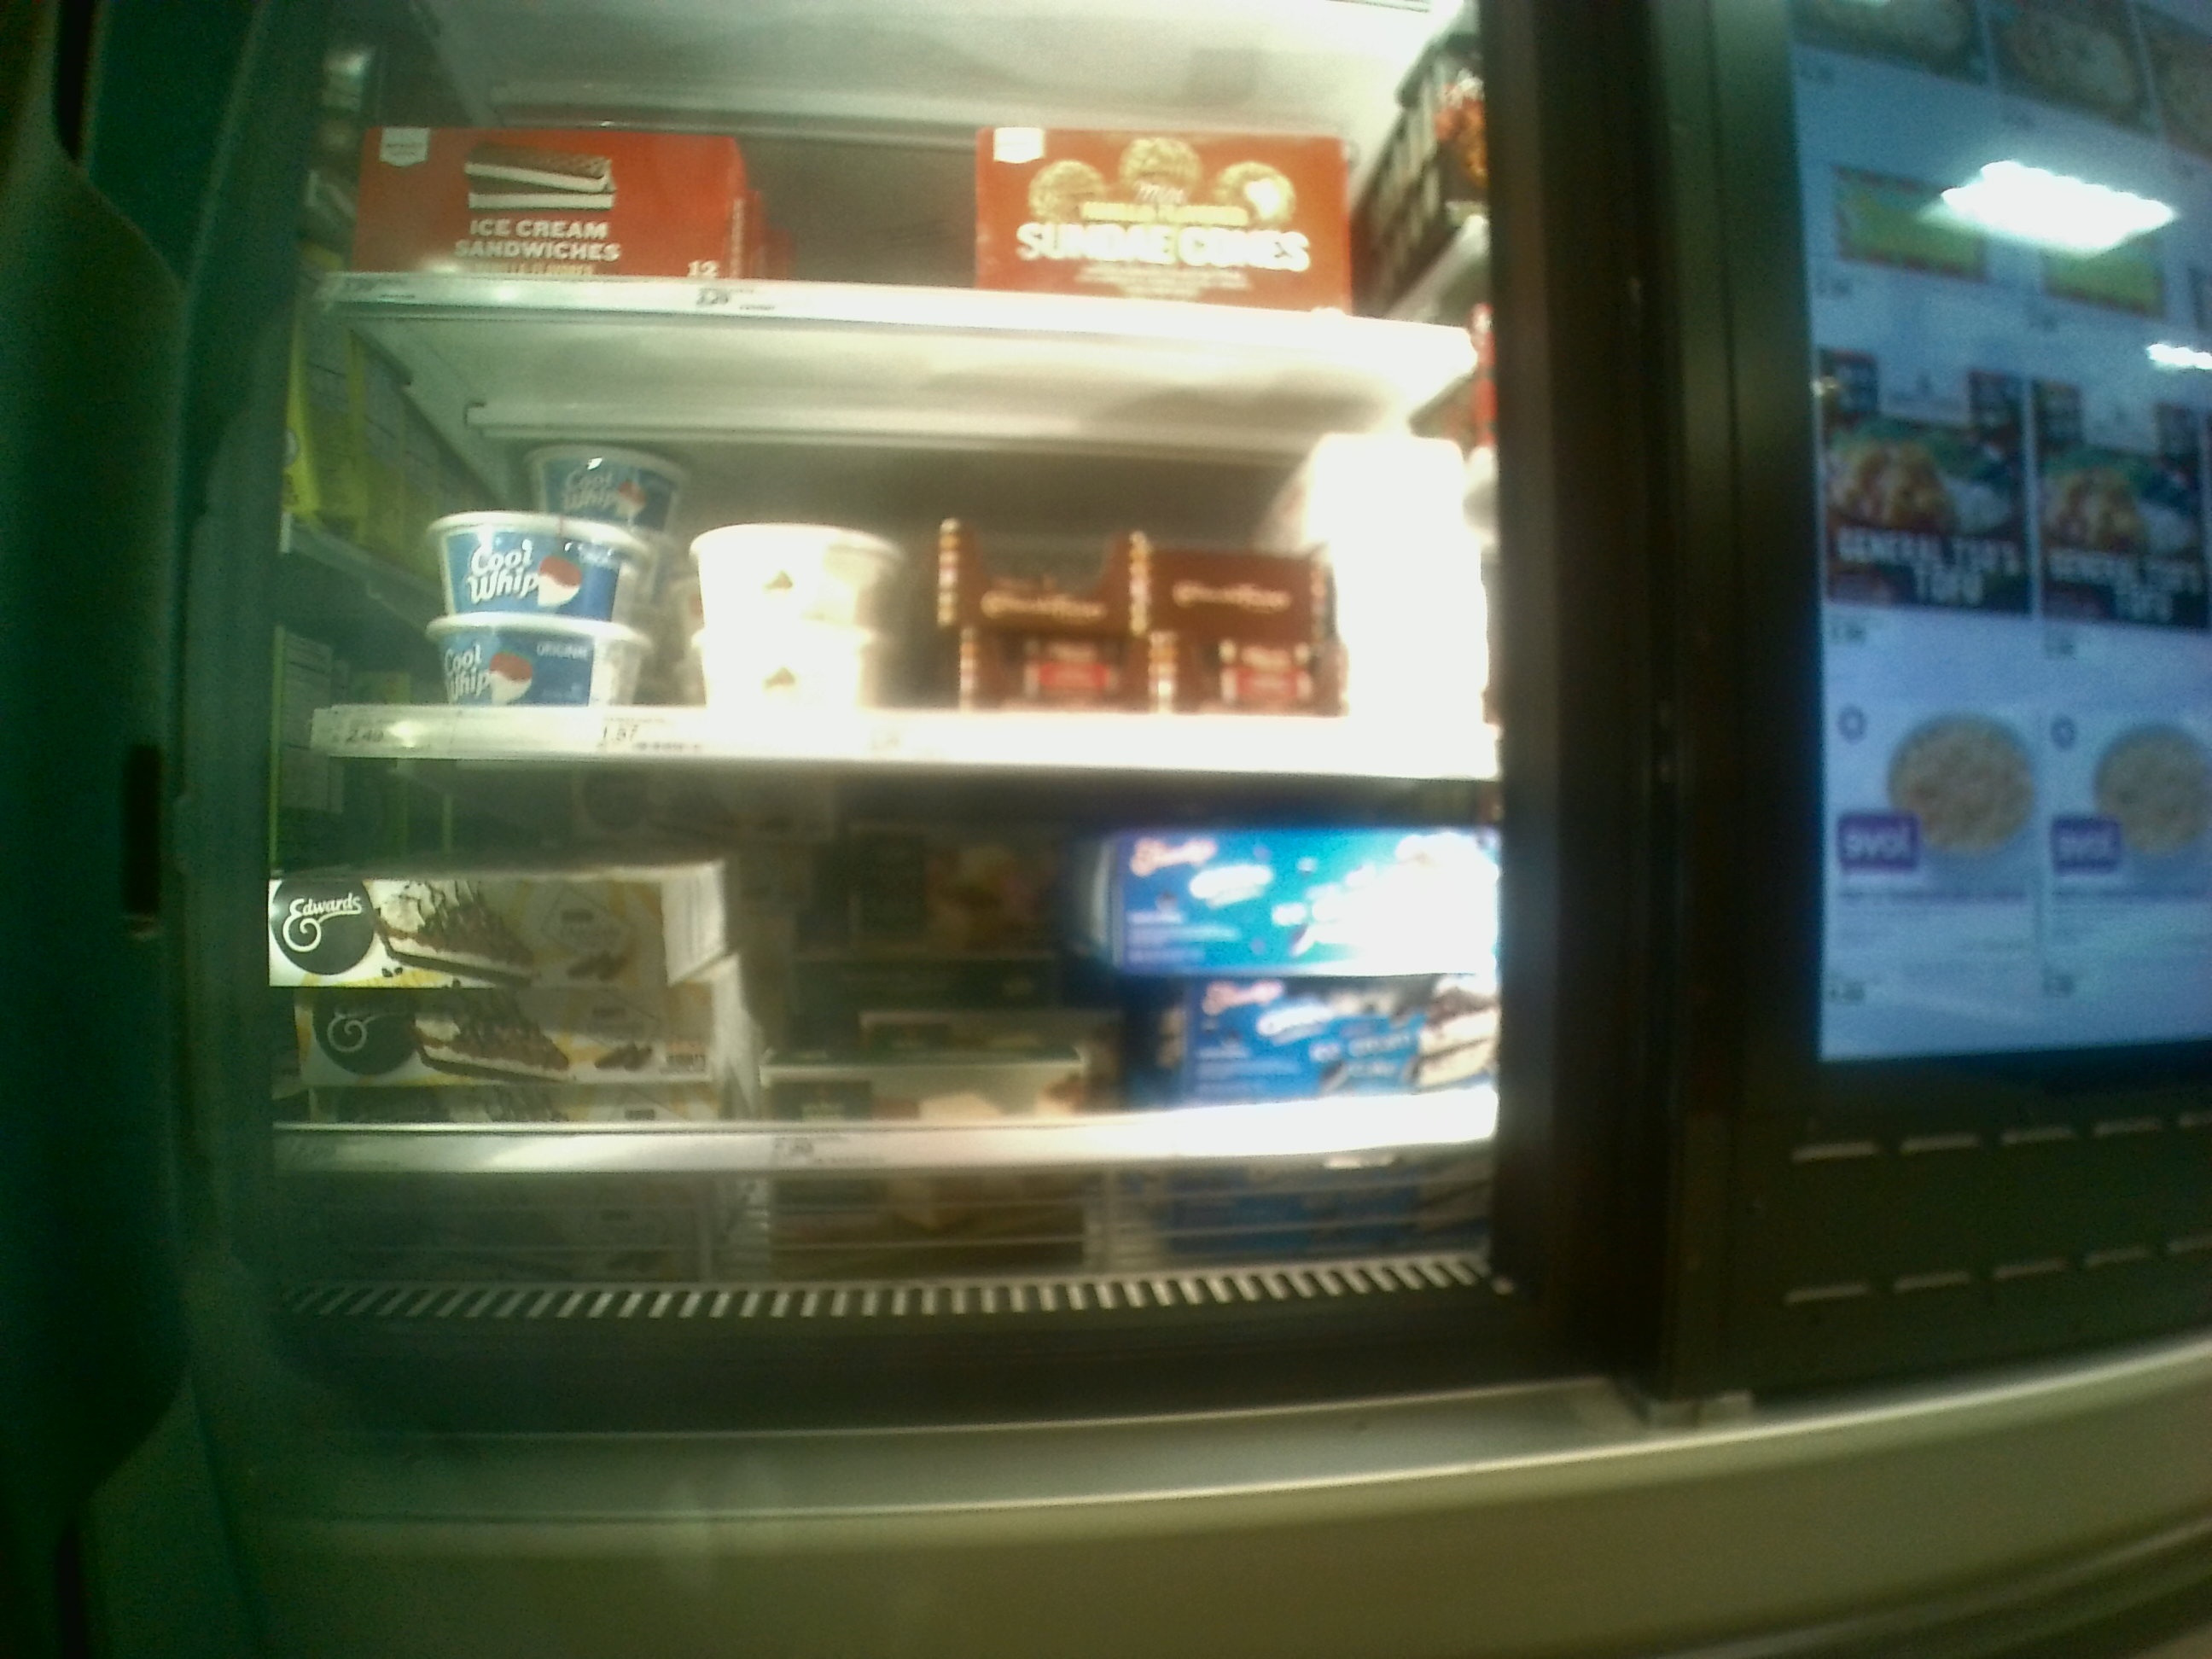frozen-food-shelf: (246, 769, 1514, 1183)
